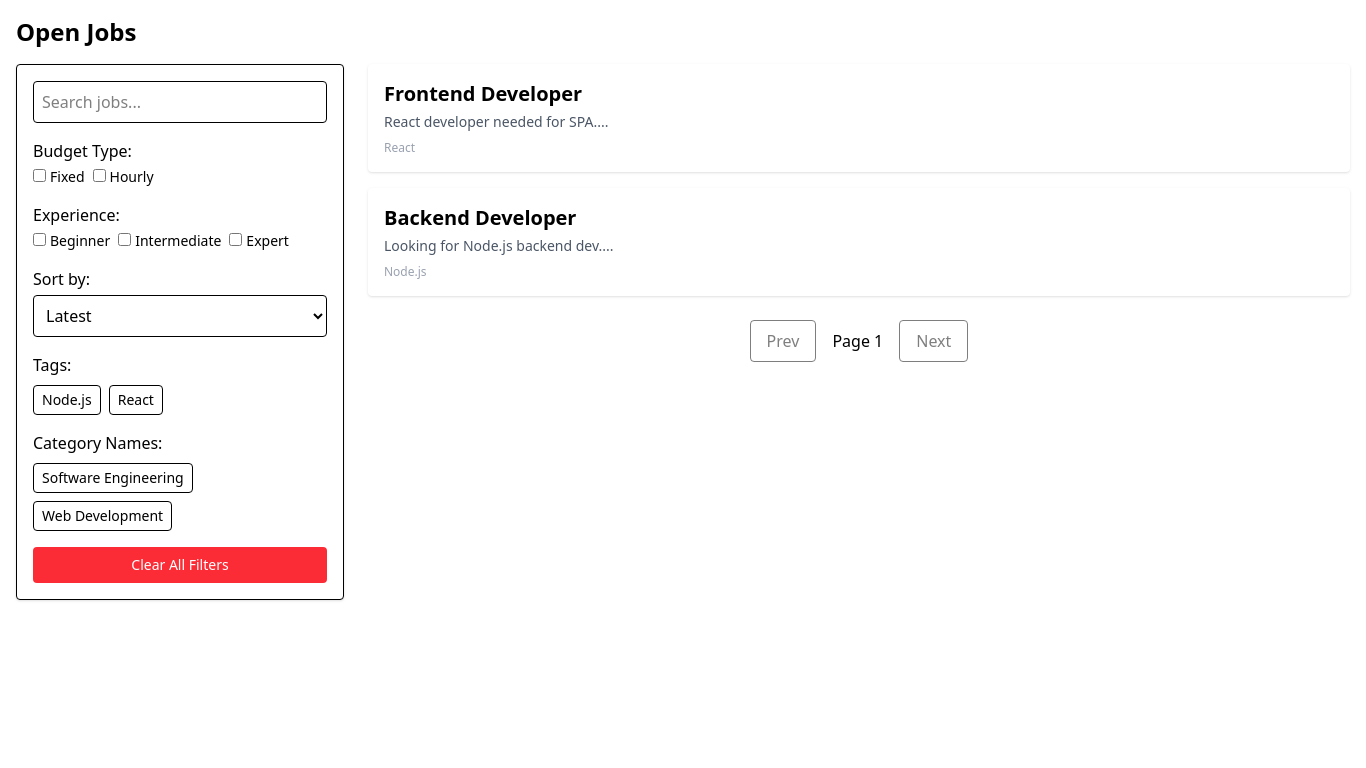
it: OpenJobsPage – Filters › filters by category name (Web Development)
The width and height of the screenshot is (1366, 768).
Expected: the heading "Frontend Developer" is shown, [384,80,582,107]
Expected: the heading "Backend Developer" is shown, [384,204,576,231]
Step 1. Click the button "Web Development" → (103, 516), box [33,501,172,531]
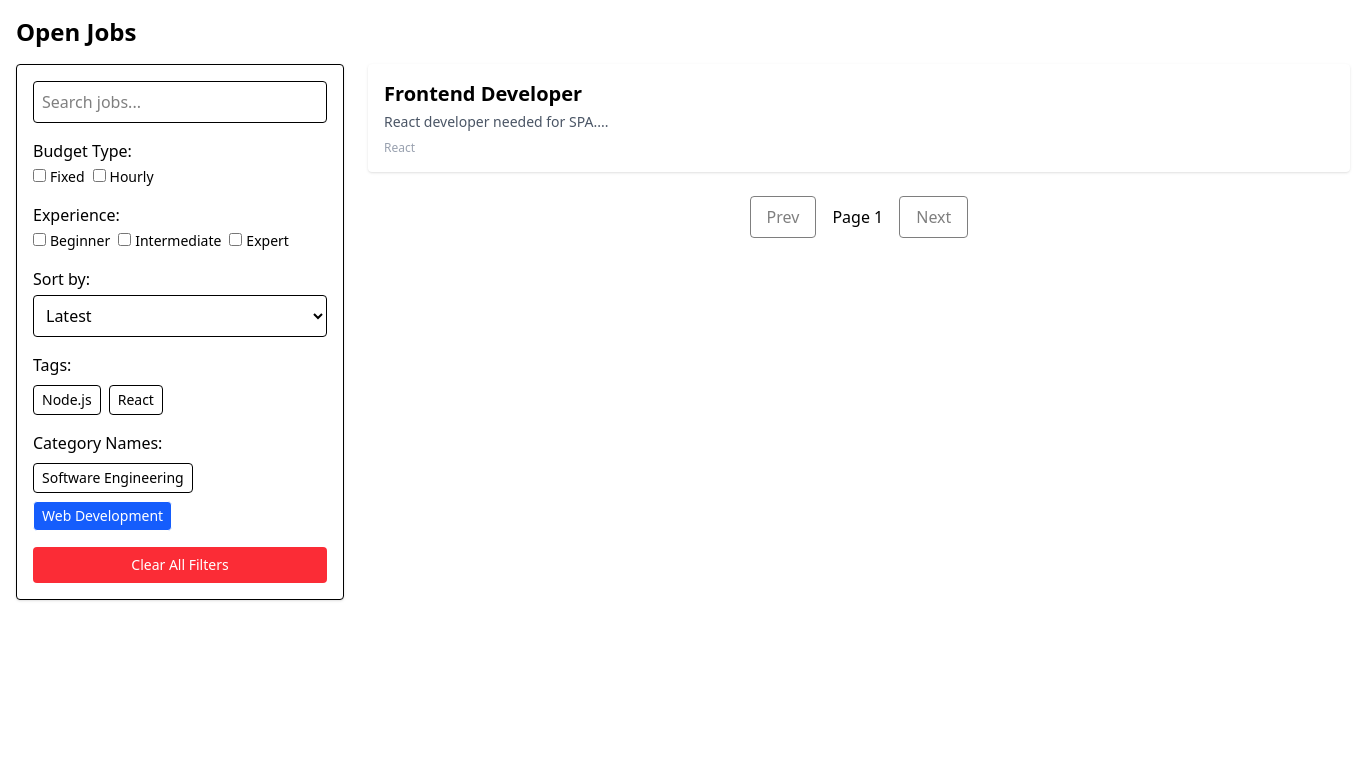
Expected: the heading "Frontend Developer" is shown, [384,80,582,107]
Expected: the heading "Backend Developer" is gone
